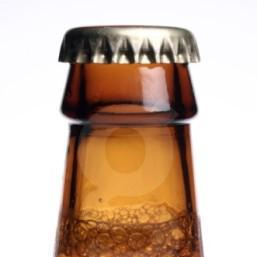beer: (50, 25, 210, 257)
